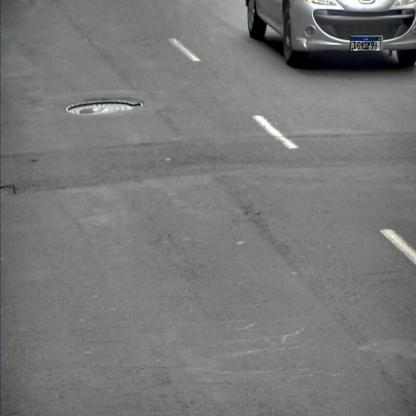PlacaM: (351, 37, 381, 51)
